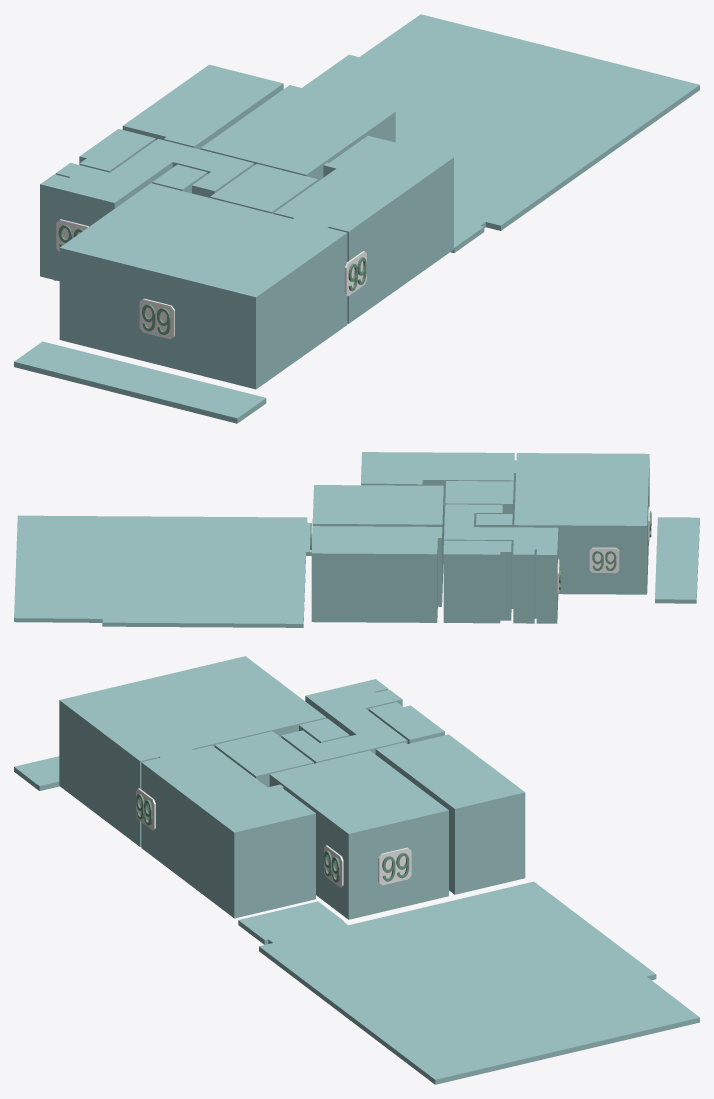
The picture shows the model from 3 angles, top to bottom: view 1: azimuth 30°, elevation 25°; view 2: azimuth 150°, elevation 25°; view 3: azimuth 270°, elevation 25°; orthographic projection. The views are drawn at different scales.
Visible parts, largest first — view 1: g_7, g_9, g_2, g_1, g_5, g_8, g_0, g_3, g_6, g_4, g_18; view 2: g_9, g_7, g_0, g_5, g_6, g_1, g_2, g_8, g_3, g_24, g_4; view 3: g_9, g_7, g_2, g_1, g_0, g_5, g_3, g_6, g_8, g_27, g_4.
Part boxes in pixels (bbox=[...]): g_7: bbox=[59, 183, 347, 389]; g_9: bbox=[302, 14, 699, 252]; g_2: bbox=[274, 135, 453, 323]; g_1: bbox=[200, 85, 395, 180]; g_5: bbox=[40, 139, 254, 281]; g_8: bbox=[14, 341, 266, 423]; g_0: bbox=[122, 64, 283, 149]; g_3: bbox=[210, 164, 318, 213]; g_6: bbox=[79, 129, 155, 172]; g_4: bbox=[152, 164, 207, 193]; g_18: bbox=[139, 298, 174, 339]; g_9: bbox=[14, 515, 311, 627]; g_7: bbox=[514, 453, 649, 594]; g_0: bbox=[311, 526, 442, 622]; g_5: bbox=[444, 504, 558, 623]; g_6: bbox=[443, 540, 511, 623]; g_1: bbox=[312, 485, 443, 592]; g_2: bbox=[361, 452, 515, 535]; g_8: bbox=[655, 517, 699, 603]; g_3: bbox=[445, 481, 513, 527]; g_24: bbox=[589, 547, 619, 573]; g_4: bbox=[476, 513, 512, 527]; g_9: bbox=[238, 881, 699, 1084]; g_7: bbox=[59, 656, 326, 846]; g_2: bbox=[141, 745, 315, 918]; g_1: bbox=[269, 750, 448, 919]; g_0: bbox=[375, 734, 525, 894]; g_5: bbox=[281, 679, 407, 763]; g_3: bbox=[214, 731, 313, 787]; g_6: bbox=[368, 702, 444, 743]; g_8: bbox=[14, 756, 59, 790]; g_27: bbox=[378, 847, 411, 885]; g_4: bbox=[299, 718, 349, 742].
Bounding box in the file's own units: 23.34 × 2.74 × 18.65.
